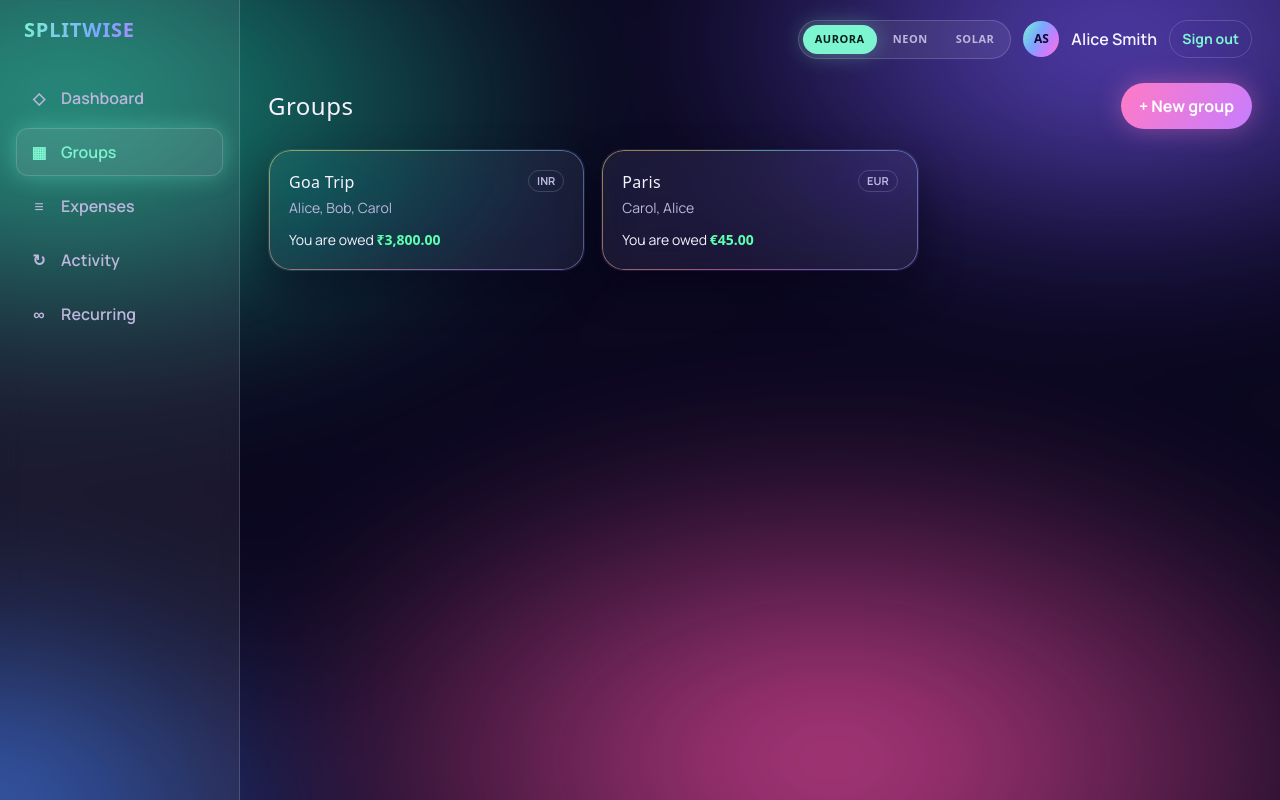
creating a group › closes on Escape without creating anything
The width and height of the screenshot is (1280, 800).
Click the button "+ New group" at (1186, 106), box [1121, 82, 1252, 128]
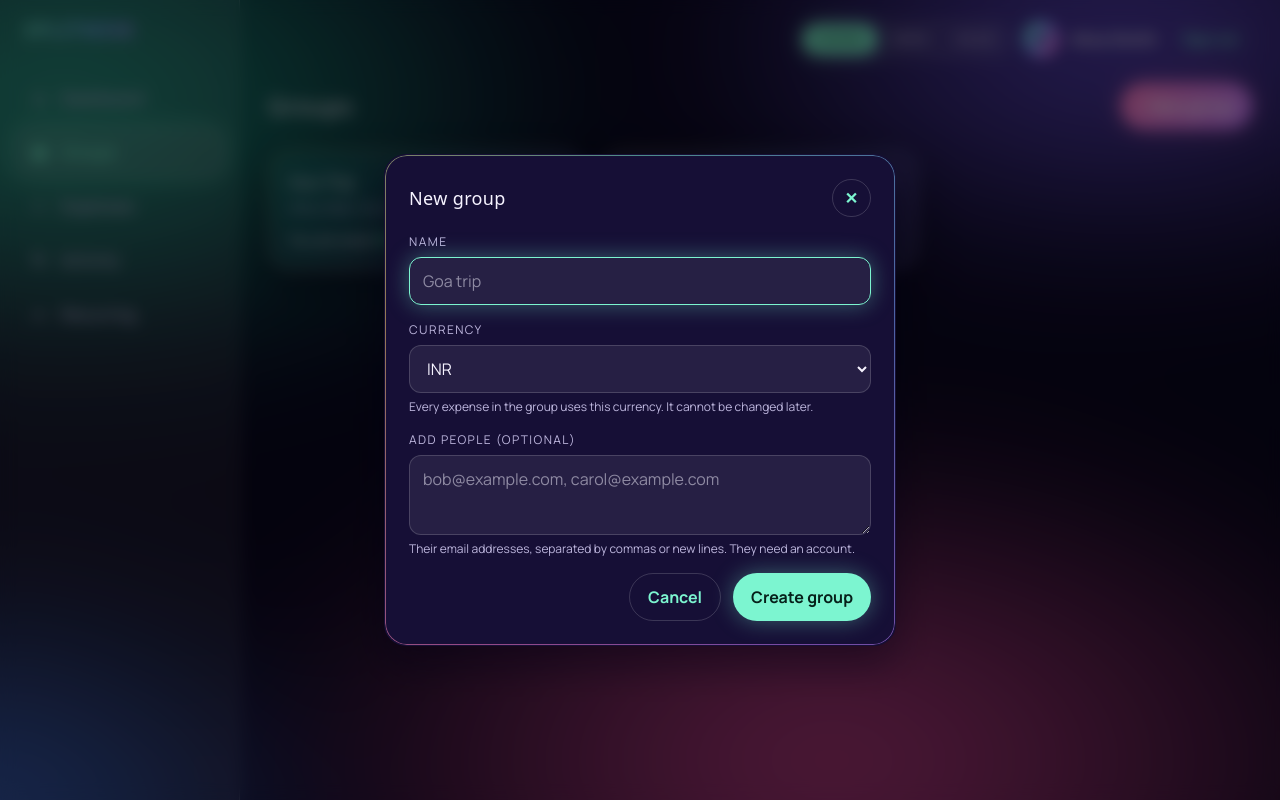
Press Escape
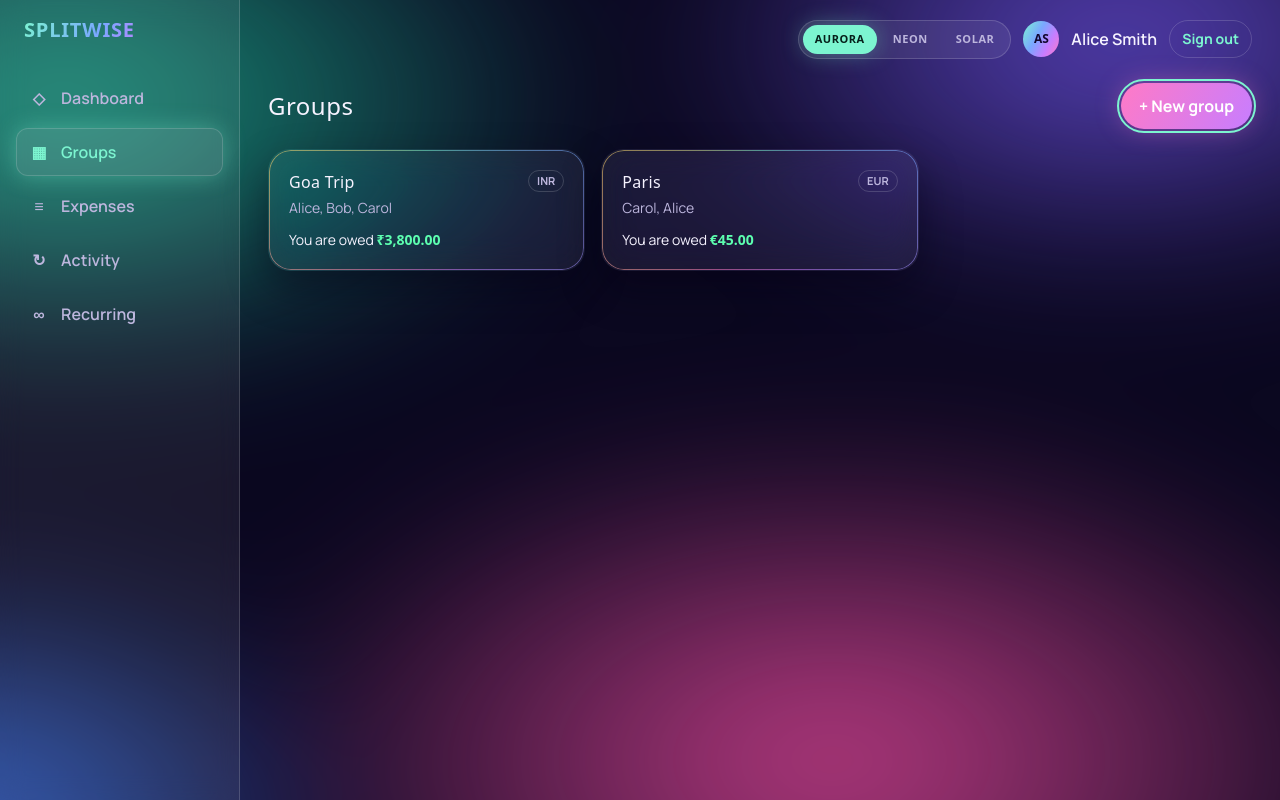
expect the dialog is gone: met
